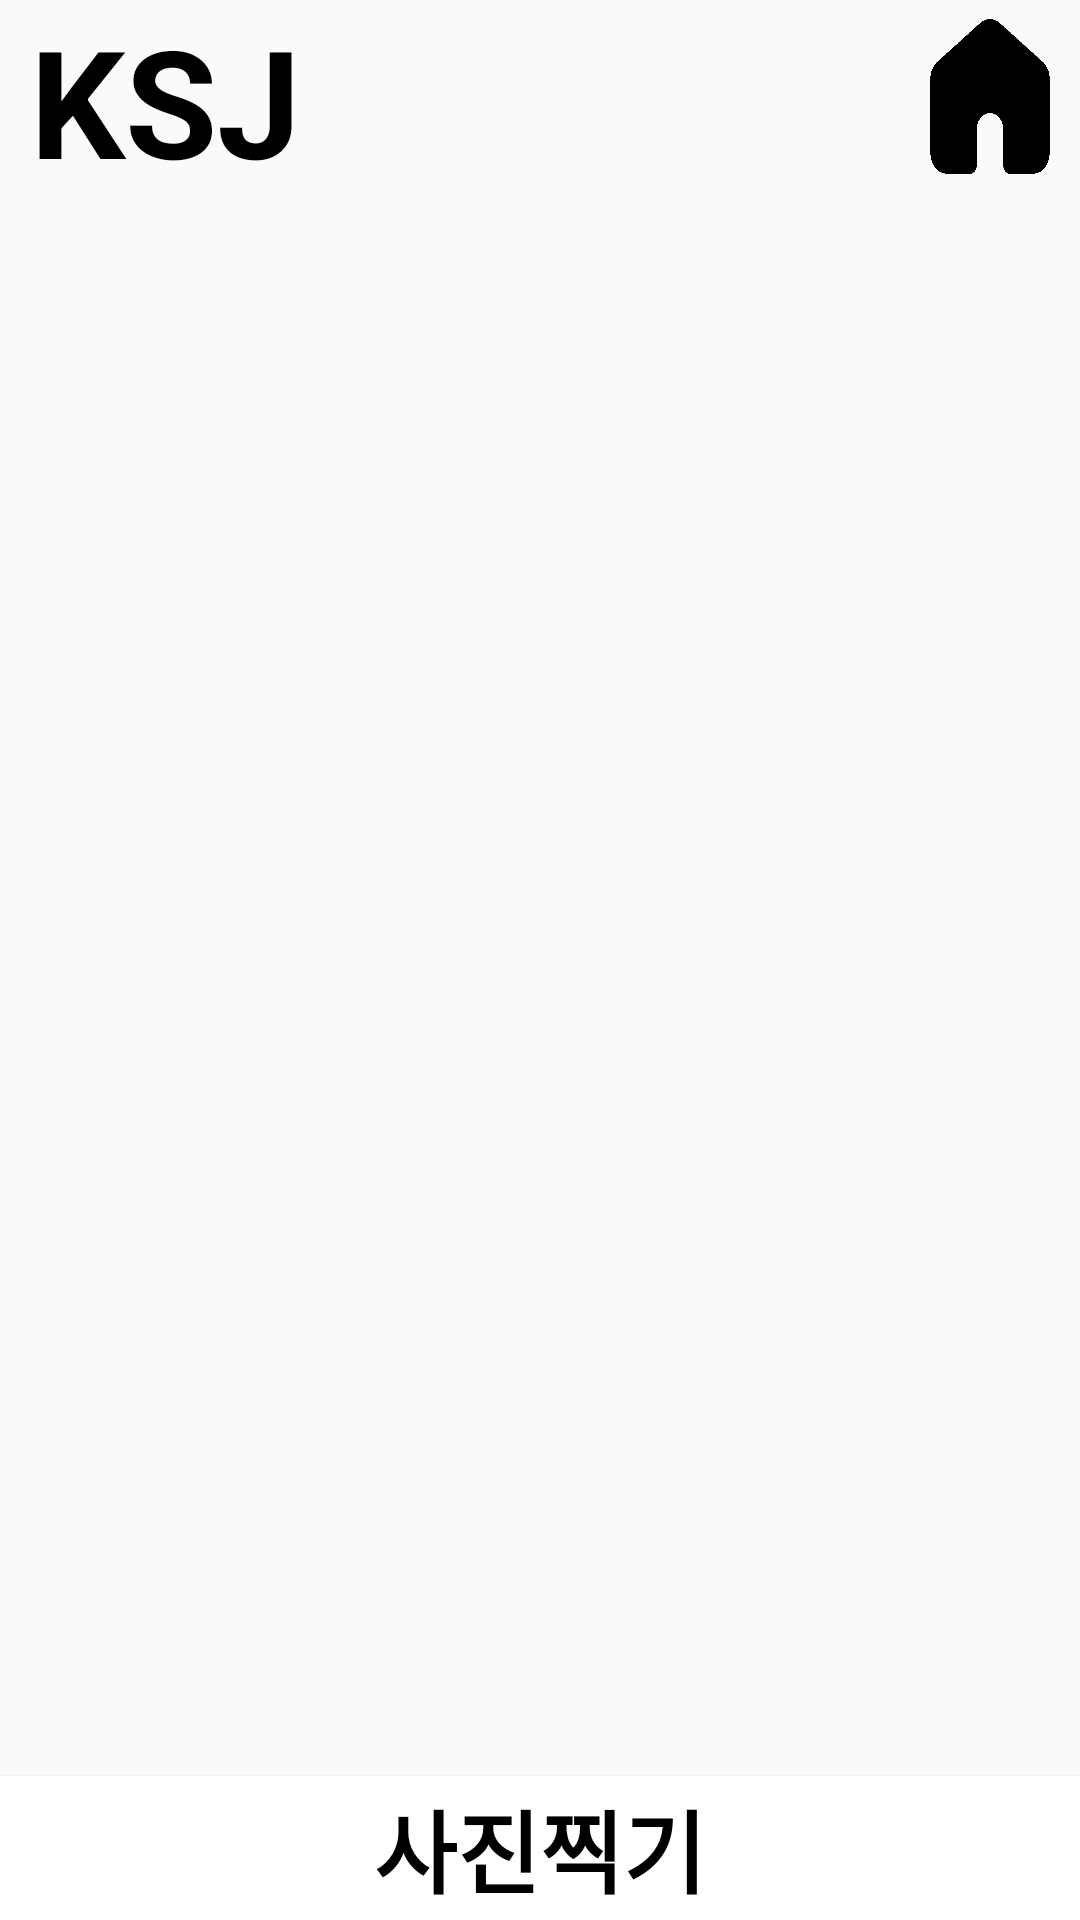

Icon bounding boxes for this 1080 x 1920 phone screenshot, format (x1, y1, x2, y2):
btnhome: (930, 19, 1050, 174)
